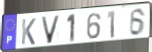1: (66, 13, 77, 44), (106, 9, 116, 40)
6: (129, 8, 147, 37), (86, 12, 102, 40)
K: (20, 18, 37, 46)
V: (40, 14, 62, 45)
